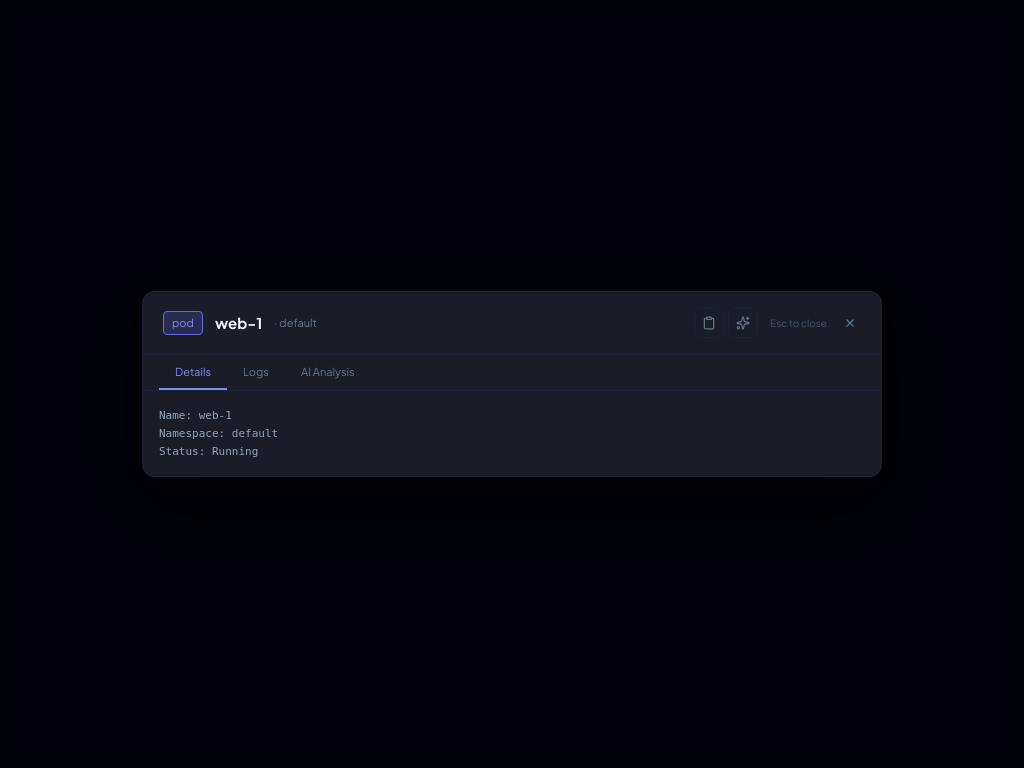
Test: ResourceModal › switches to logs tab on click
This screenshot has width=1024, height=768.
Click the button "logs" at {"x": 256, "y": 373}, box [227,355,285,390]
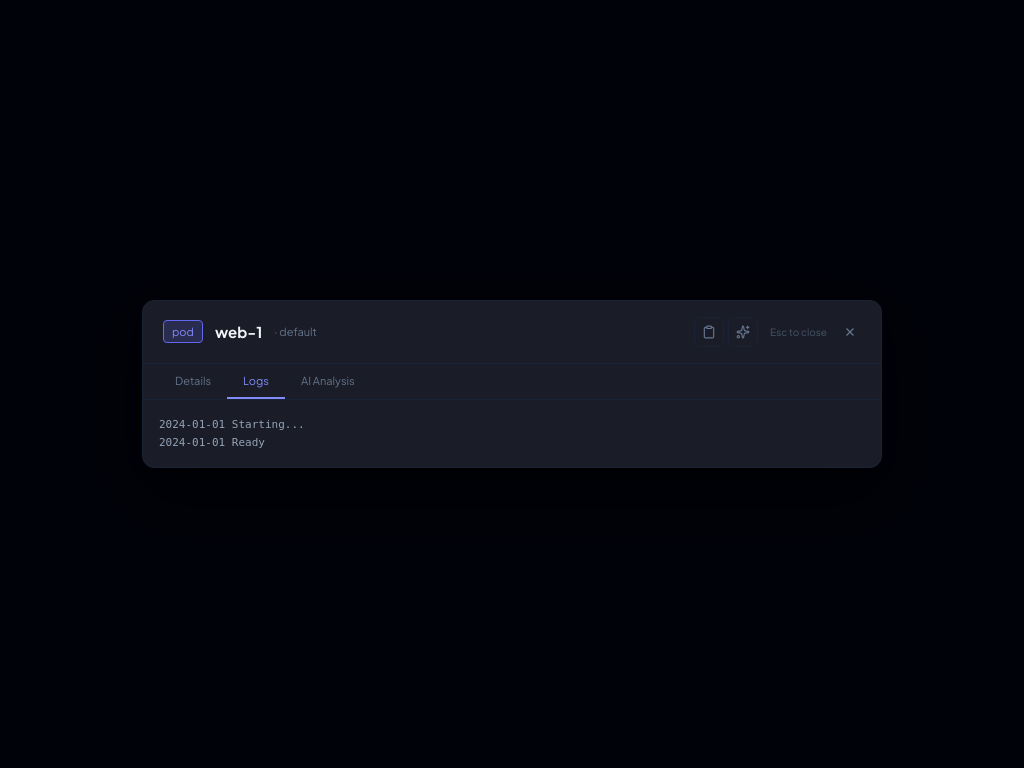
Check: the text "2024-01-01 Starting... 2024-01-01 Ready" is shown, box [159,418,305,449]
